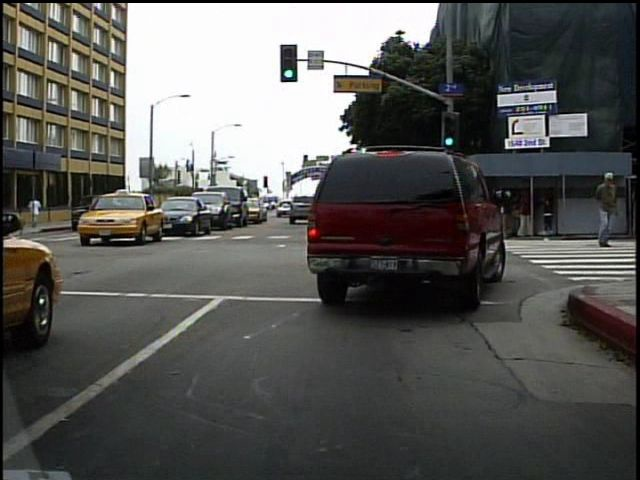person: (590, 167, 621, 254), (27, 193, 44, 228)
